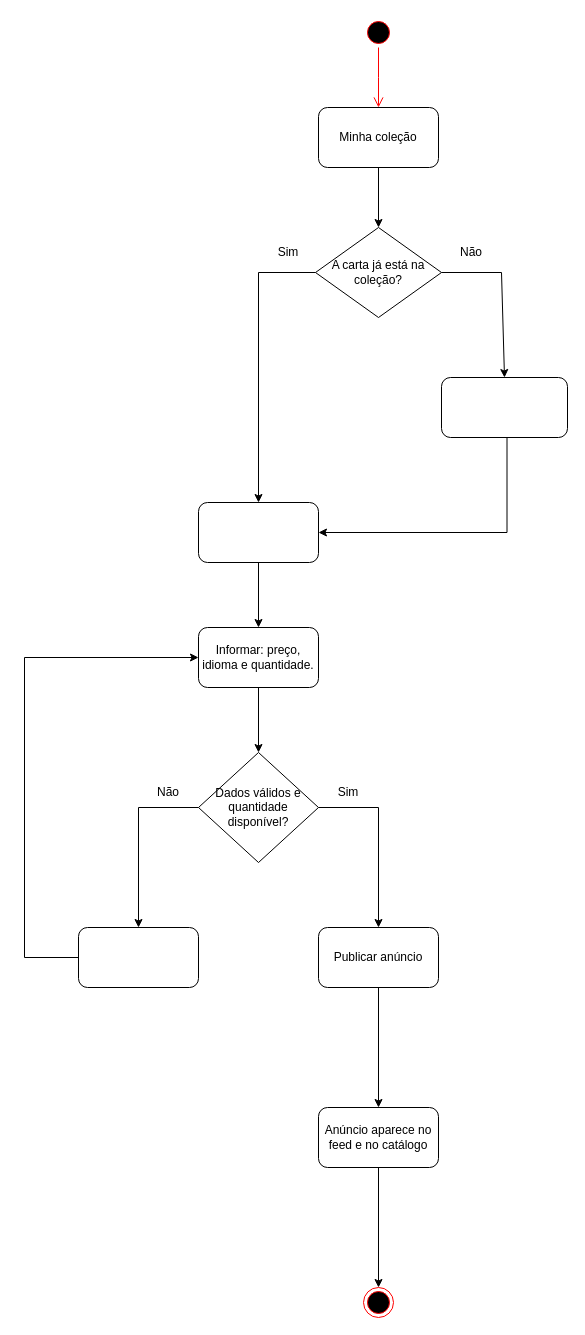
The diagram is 585 pixels wide and 1335 high, and some of its shapes have lost their labels. The shapes that lost their labels are listed below. From the top down, each one's centre as x and y in pixels, then its label:
At [504,407]: "Buscar carta no catálogo e adicionar a coleção".
At [258,532]: "Selecionar carta e clicar em Anunciar".
At [138,957]: "Exibir erros de validação".
